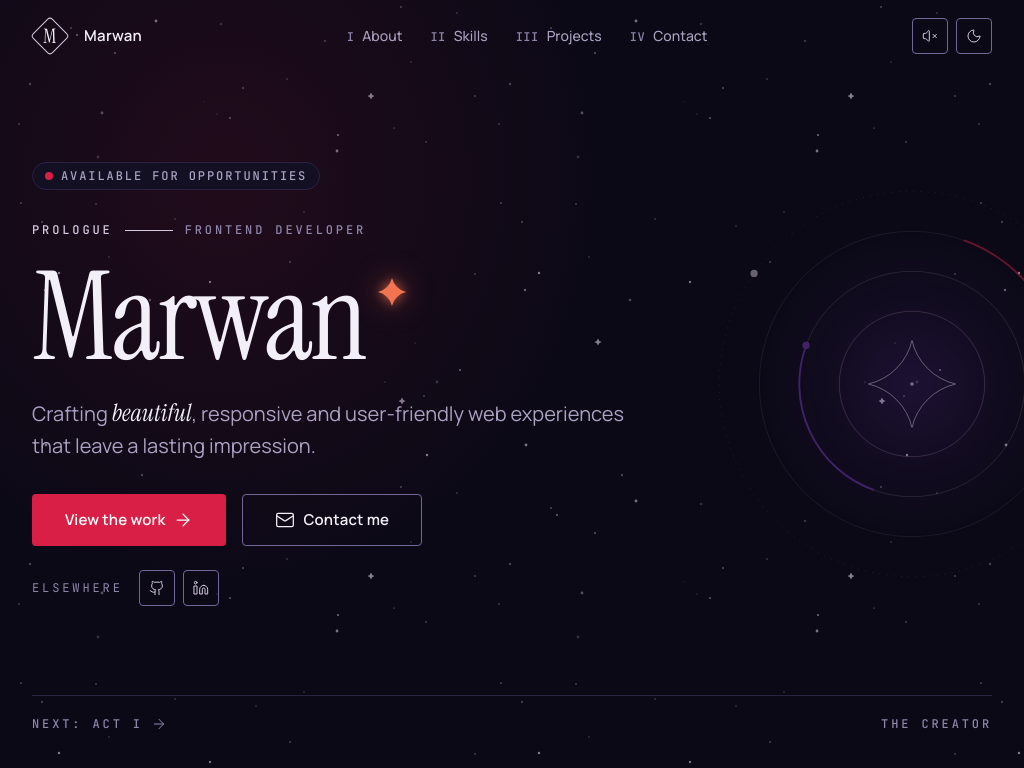
App routing › navigates when an act link is clicked
Click the link "II Skills": (459, 36) top-left (418, 18), bottom-right (500, 54)
Wait 1000 ms
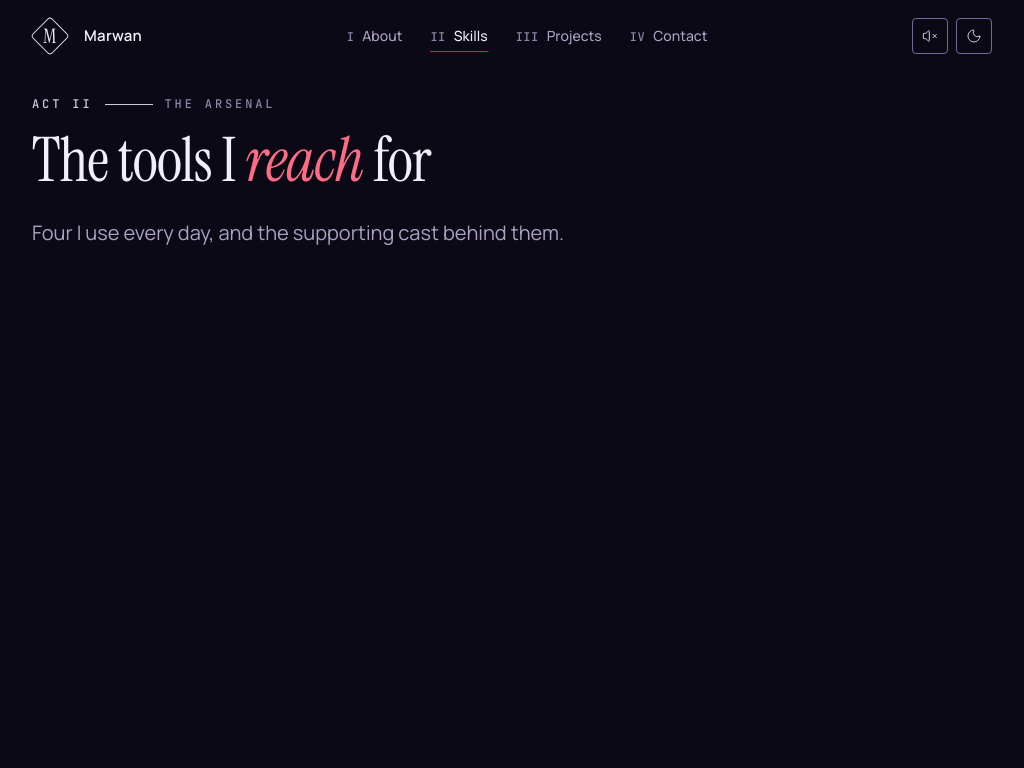
Result: the heading "The tools I reach for" is shown at top-left (32, 120), bottom-right (430, 200)
